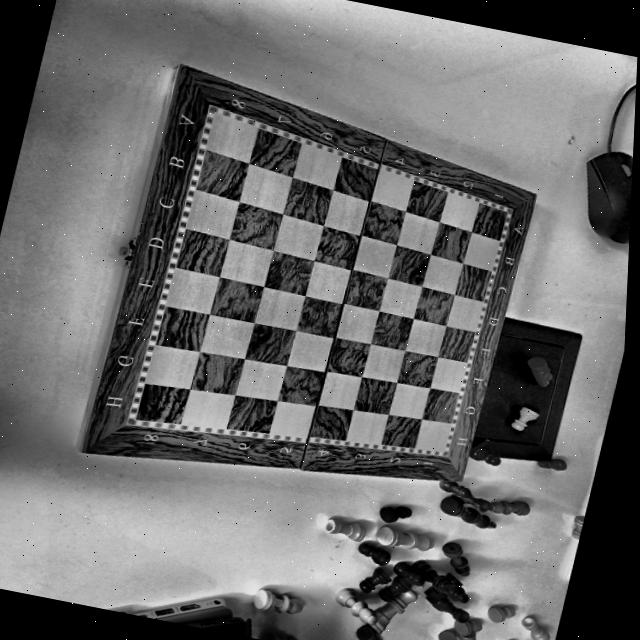chessboard: (84, 65, 537, 484)
